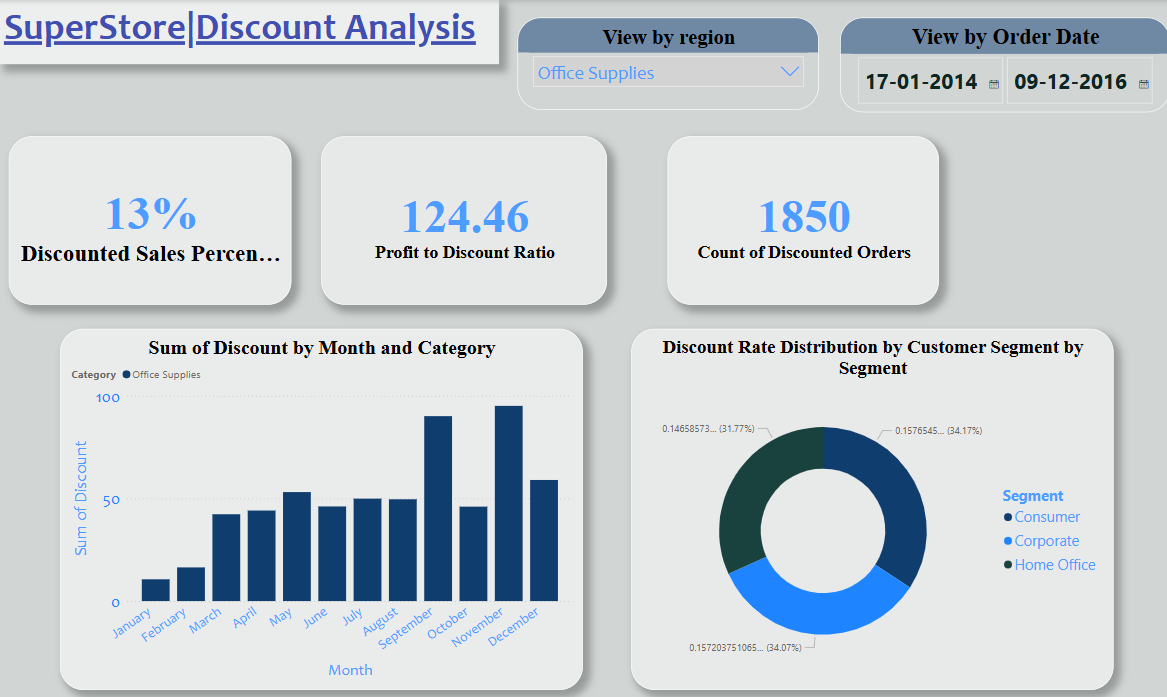

The dashboard page shown, as its layout file describes it:
{"tool":"powerbi","page":{"name":"Discounted Sale","canvas":[1500,900],"ordinal":6},"visuals":[{"type":"textbox","box":[0,0,640,82],"z":0},{"type":"slicer","title":"View by Order Date","fields":{"Values":["Orders.Order Date"]},"box":[1076.7,21.7,423.3,121.7],"z":1000},{"type":"slicer","title":"View by region","fields":{"Values":["Orders.Category"]},"box":[663.3,21.7,386.7,118.3],"z":2000},{"type":"clusteredColumnChart","fields":{"Category":["Orders.Order Date.Variation.Date Hierarchy.Month"],"Y":["Sum(Orders.Discount)"],"Series":["Orders.Category"]},"box":[76.7,421.7,670,463.3],"z":3000},{"type":"donutChart","fields":{"Y":["Orders.Discount Rate Distribution by Customer Segment"],"Category":["Orders.Segment"]},"box":[810,421.7,618.3,463.3],"z":4000},{"type":"card","fields":{"Values":["Orders.Discounted Sales Percentage"]},"box":[12,174,362,216],"z":5000},{"type":"card","fields":{"Values":["Orders.Profit to Discount Ratio"]},"box":[412,174,366,216],"z":6000},{"type":"card","fields":{"Values":["Orders.Count of Discounted Orders"]},"box":[856,174,348,216],"z":7000}]}

Visuals, with their boxes in screenshot pixels (x1, y1, x2, y2), scaled from the page's 1500x900 canvas onto the 1167x697 screenshot:
textbox: [0, 0, 498, 64]
"View by Order Date" slicer: [838, 17, 1166, 111]
"View by region" slicer: [516, 17, 817, 108]
clusteredColumnChart - Orders.Order Date.Variation.Date Hierarchy.Month x Sum(Orders.Discount): [60, 327, 581, 685]
donutChart - Orders.Discount Rate Distribution by Customer Segment x Orders.Segment: [630, 327, 1111, 685]
card - Orders.Discounted Sales Percentage: [9, 135, 291, 302]
card - Orders.Profit to Discount Ratio: [321, 135, 605, 302]
card - Orders.Count of Discounted Orders: [666, 135, 937, 302]
